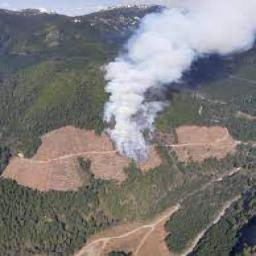Low smoke: (103, 0, 255, 157)
